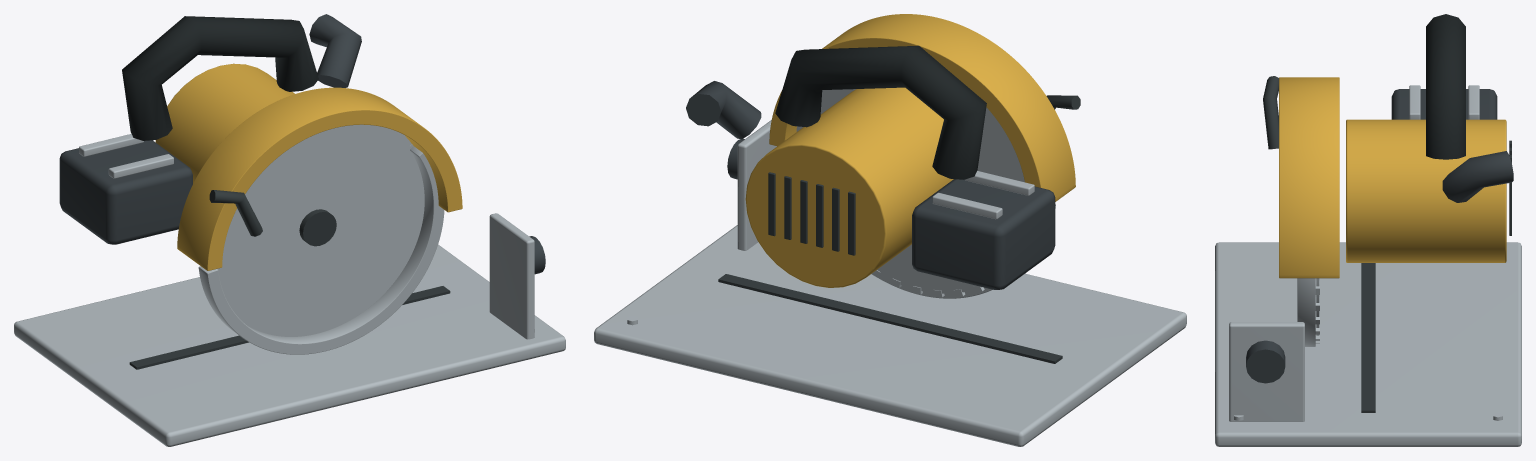
Rendered from garage-circular-saw.glb.
The picture shows the model from 3 angles, left to right: view 1: azimuth 30°, elevation 25°; view 2: azimuth 150°, elevation 25°; view 3: azimuth 270°, elevation 25°; orthographic projection. The views are drawn at different scales.
Visible parts, largest first — view 1: catalog_surface_RealismUV; view 2: catalog_surface_RealismUV; view 3: catalog_surface_RealismUV.
Part boxes in pixels (x1,y1,x2,y2): catalog_surface_RealismUV: (14,14,565,446); catalog_surface_RealismUV: (594,14,1186,446); catalog_surface_RealismUV: (1215,14,1521,446).
Size of the model in its own units: 0.335 by 0.25 by 0.225.
